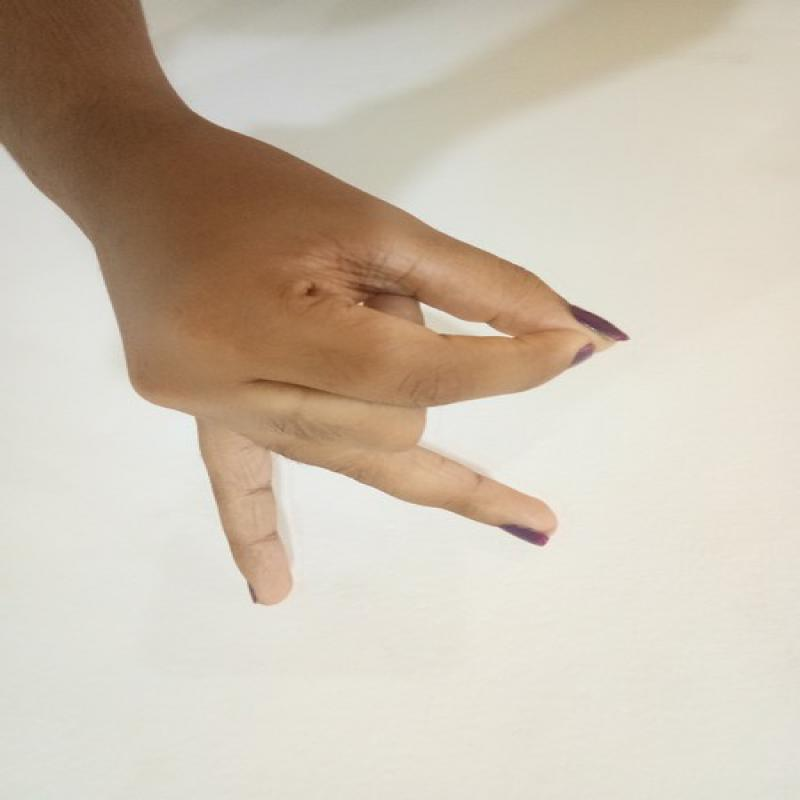Katakam: (89, 117, 635, 614)
